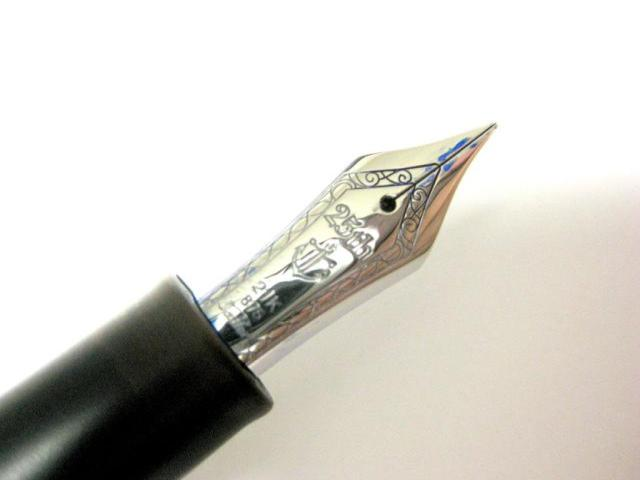PEN: (0, 115, 501, 473)
